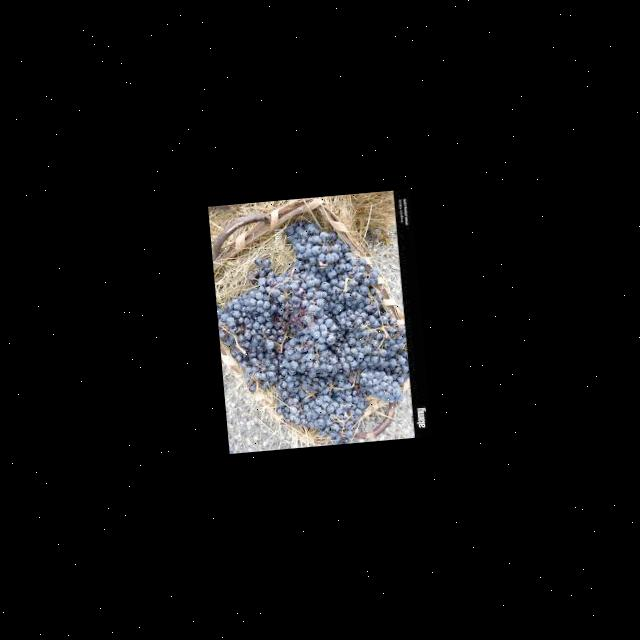grape: (210, 211, 414, 452)
